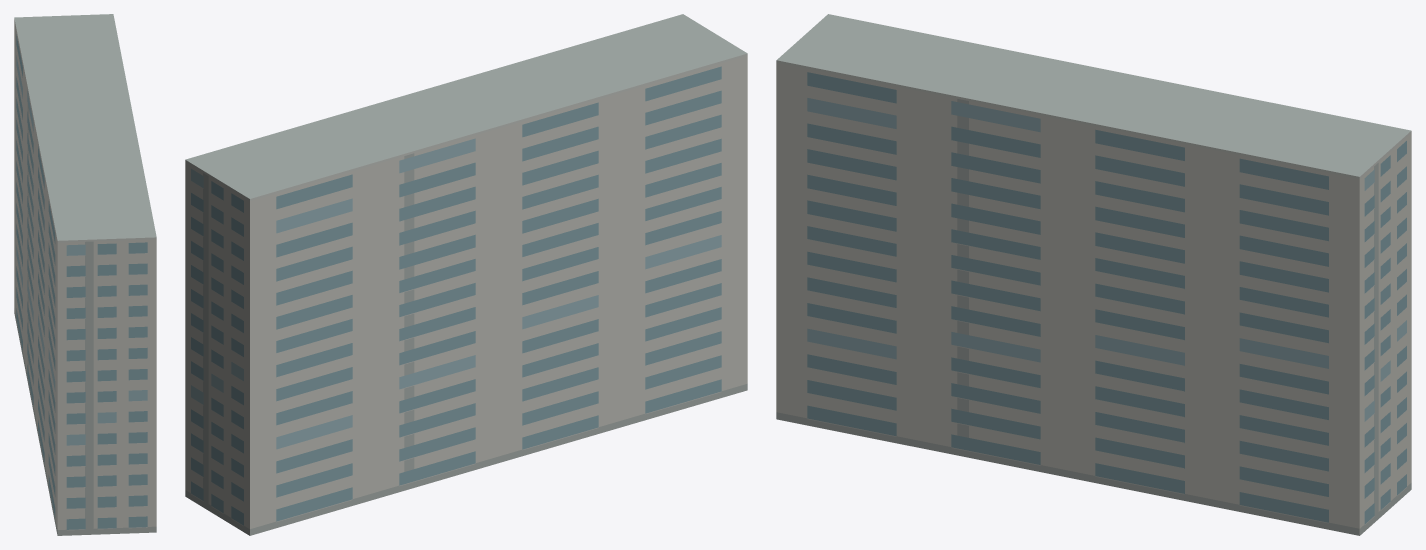
Rendered from residential-9955eaf4-4918-4031-9900-9849fc1a7df7.glb.
3 views of the same model, side by side, from view 1: azimuth 30°, elevation 25°; view 2: azimuth 150°, elevation 25°; view 3: azimuth 270°, elevation 25° (orthographic). The views are drawn at different scales.
Visible parts, largest first — view 1: residential-9955eaf4-4918-4031-9900-9849fc1a7df7.tmp; view 2: residential-9955eaf4-4918-4031-9900-9849fc1a7df7.tmp; view 3: residential-9955eaf4-4918-4031-9900-9849fc1a7df7.tmp.
Part boxes in pixels (box(x1,y1,x2,y2)): residential-9955eaf4-4918-4031-9900-9849fc1a7df7.tmp: box(14, 14, 156, 535); residential-9955eaf4-4918-4031-9900-9849fc1a7df7.tmp: box(185, 14, 747, 535); residential-9955eaf4-4918-4031-9900-9849fc1a7df7.tmp: box(776, 14, 1411, 535).
Bounding box in the file's own units: 36 × 37 × 59.32.
